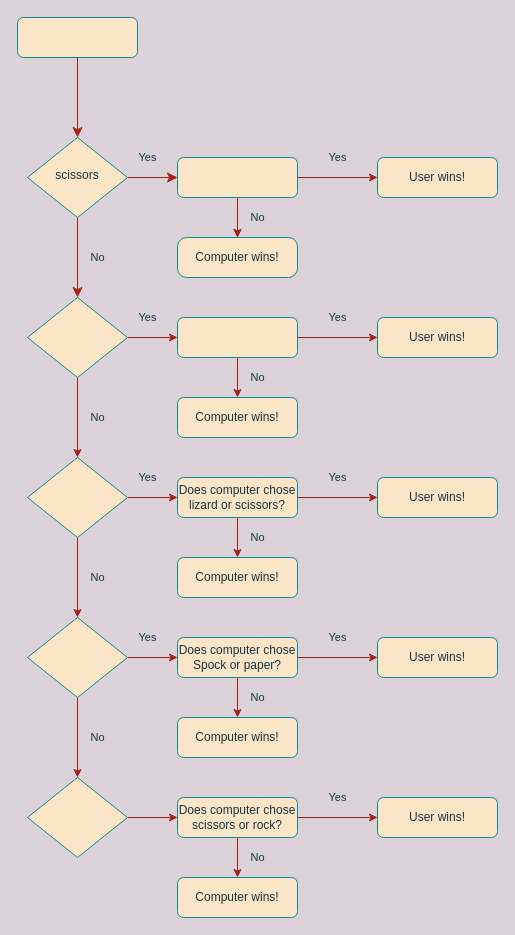
Some shapes in this 515 by 935 pixel diagram are drawn without their labels. Here are the shapes that lost their labels. From the top down, the centre of each, then its label:
At [77,37]: "What does user chose?".
At [237,177]: "Does computer chose paper or lizard?".
At [77,337]: "paper".
At [237,337]: "Does computer chose rock or Spock?".
At [77,497]: "rock".
At [77,657]: "lizard".
At [77,817]: "Spock".
